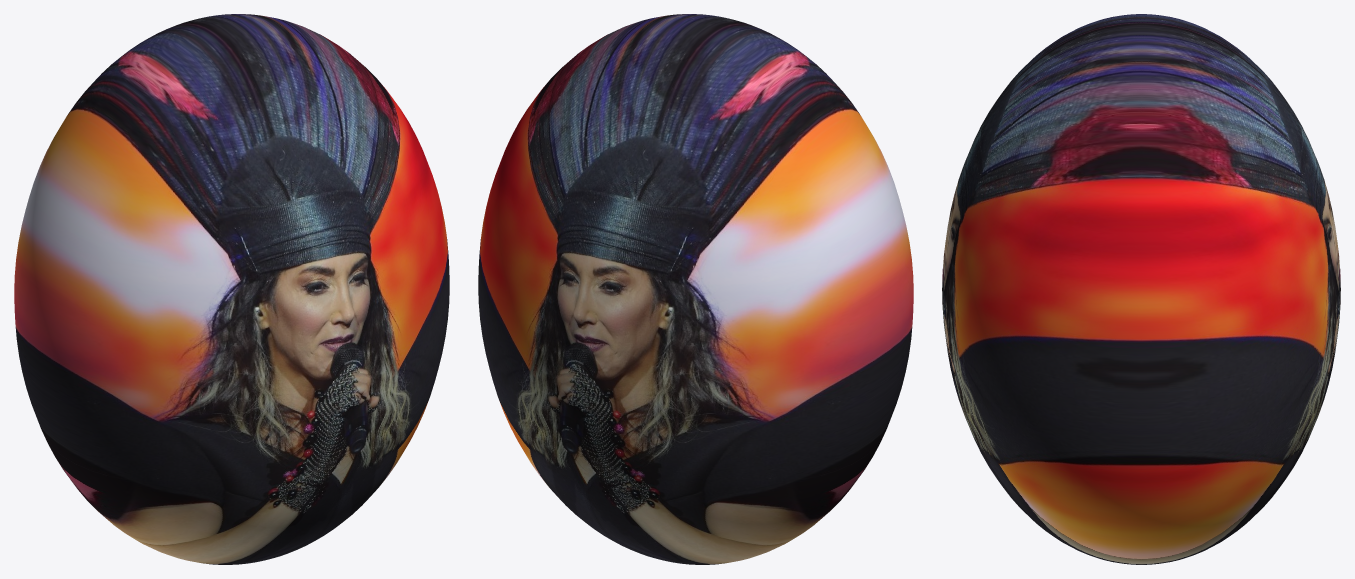
3 renders of one model, left to right at view 1: azimuth 30°, elevation 25°; view 2: azimuth 150°, elevation 25°; view 3: azimuth 270°, elevation 25°, orthographic.
Visible parts, largest first — view 1: head; view 2: head; view 3: head.
Part boxes in pixels (x1,y1,x2,y2): head: (14, 14, 449, 564); head: (478, 14, 913, 564); head: (942, 14, 1340, 564).
Bounding box in the file's own units: 1.55 × 2 × 1.39.
Materials: 1 (1 with a texture image).
